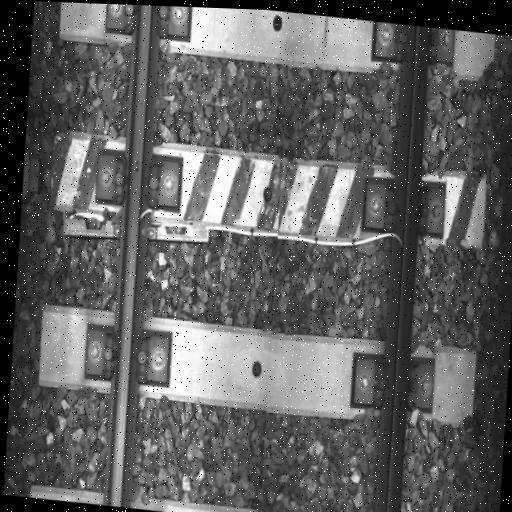sleeper: (47, 125, 488, 274), (37, 301, 478, 438), (59, 2, 497, 88), (33, 479, 465, 512)
